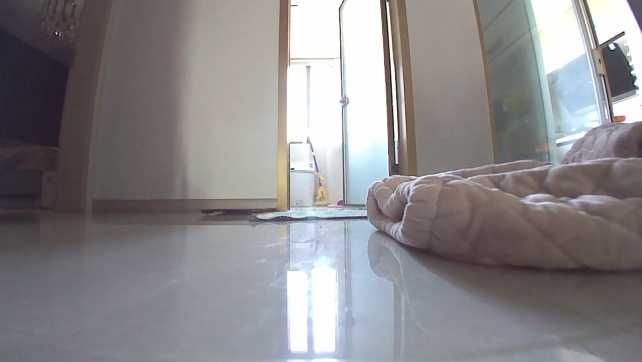blanket: (250, 205, 366, 222)
door_anno: (336, 0, 417, 208)
toilet: (289, 136, 319, 206)
weight_scale: (198, 203, 278, 215)
